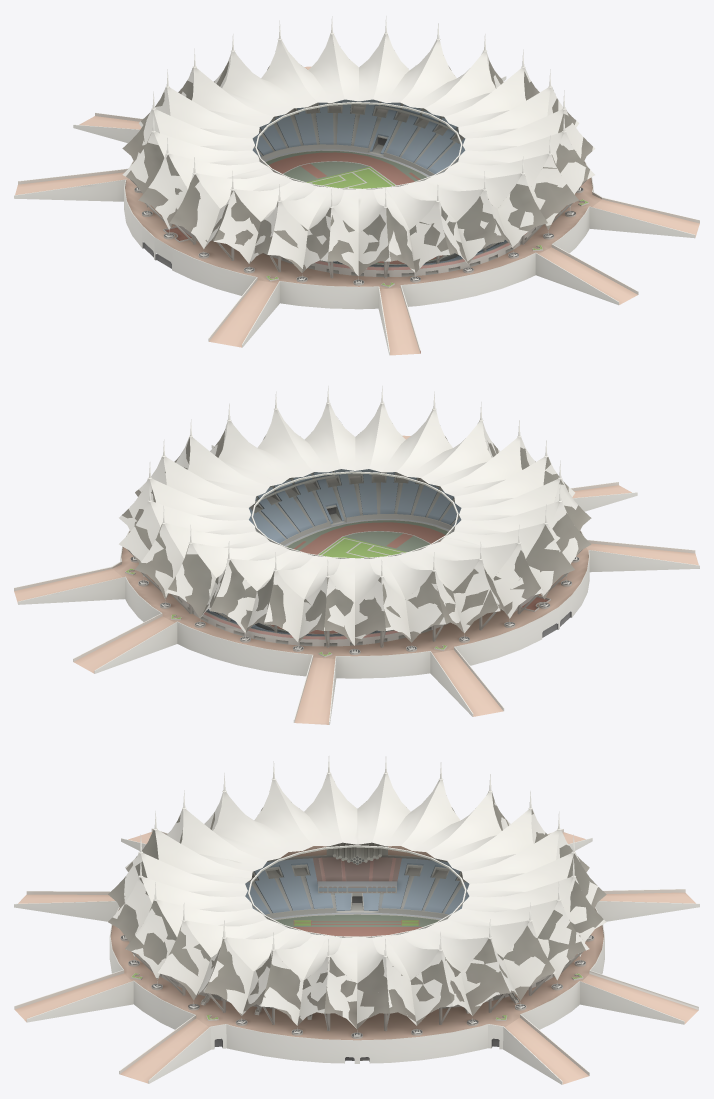
3 views of the same model, one above another, from view 1: azimuth 30°, elevation 25°; view 2: azimuth 150°, elevation 25°; view 3: azimuth 270°, elevation 25° (orthographic). The views are drawn at different scales.
Parts seen in each view (by area): view 1: King_Fahd_Stadium_baked, King_Fahd_Stadium_baked.001; view 2: King_Fahd_Stadium_baked, King_Fahd_Stadium_baked.001; view 3: King_Fahd_Stadium_baked, King_Fahd_Stadium_baked.001.
Part boxes in pixels (x1,y1,x2,y2): King_Fahd_Stadium_baked: (14, 16, 699, 355); King_Fahd_Stadium_baked.001: (122, 58, 592, 276); King_Fahd_Stadium_baked: (14, 386, 699, 724); King_Fahd_Stadium_baked.001: (122, 429, 591, 645); King_Fahd_Stadium_baked: (14, 756, 699, 1084); King_Fahd_Stadium_baked.001: (108, 792, 606, 1028).
Size of the model in its own units: 347 by 74.17 by 398.
1 material, 1 textured.
